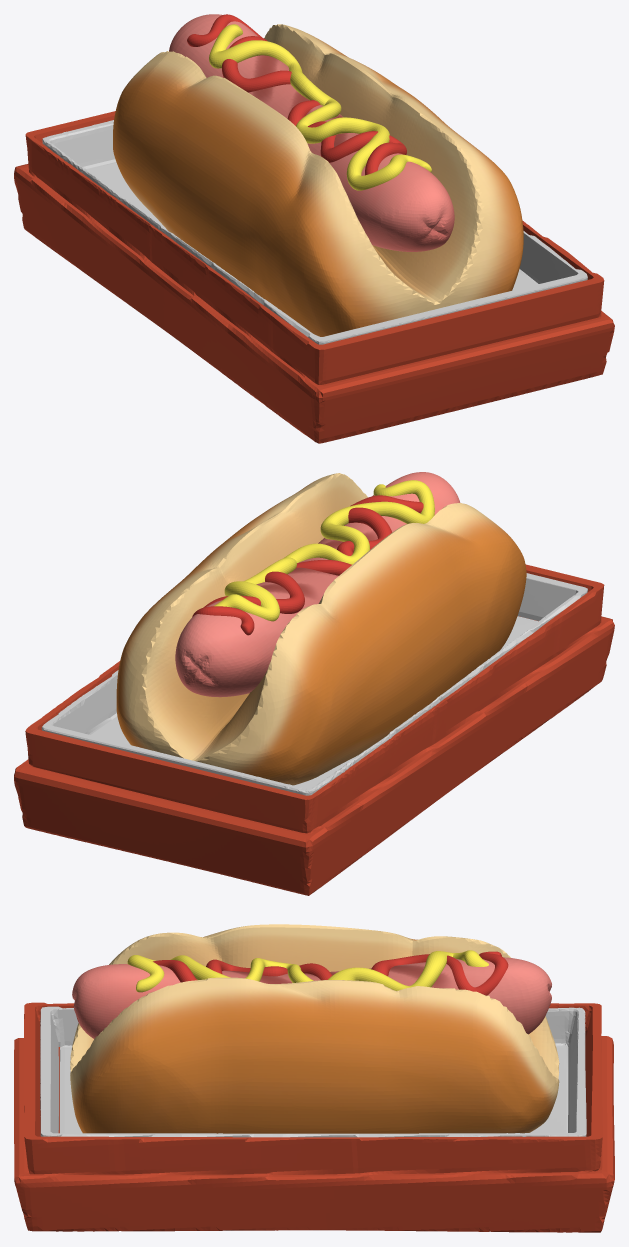
File: Hotdogcontainer.glb
3 views of the same model, one above another, from view 1: azimuth 30°, elevation 25°; view 2: azimuth 150°, elevation 25°; view 3: azimuth 270°, elevation 25° (orthographic). The views are drawn at different scales.
Visible parts, largest first — view 1: Tray, Bun, Hotdog, Sauce; view 2: Tray, Bun, Hotdog, Sauce; view 3: Bun, Tray, Hotdog, Sauce.
Boxes of the visible parts, bbox=[...] form: Tray: bbox=[14, 111, 614, 443]; Bun: bbox=[113, 24, 523, 336]; Hotdog: bbox=[169, 14, 454, 251]; Sauce: bbox=[187, 14, 431, 190]; Tray: bbox=[14, 564, 614, 895]; Bun: bbox=[116, 473, 526, 785]; Hotdog: bbox=[175, 472, 460, 697]; Sauce: bbox=[192, 480, 434, 635]; Bun: bbox=[70, 924, 559, 1133]; Tray: bbox=[14, 1002, 614, 1232]; Hotdog: bbox=[72, 957, 551, 1038]; Sauce: bbox=[127, 950, 508, 995].
Size of the model in its own units: 1.15 by 0.8055 by 2.05.
